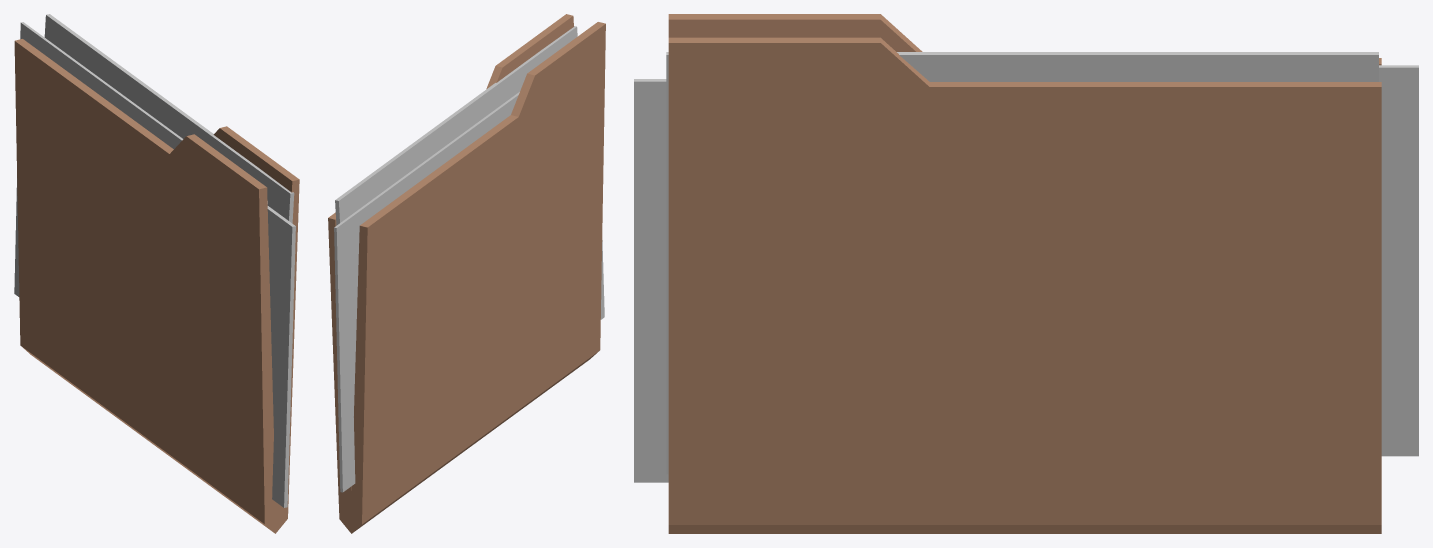
3 views of the same model, side by side, from view 1: azimuth 30°, elevation 25°; view 2: azimuth 150°, elevation 25°; view 3: azimuth 270°, elevation 25° (orthographic). The views are drawn at different scales.
Visible parts, largest first — view 1: file 1; view 2: file 1; view 3: file 1.
Part boxes in pixels (left/top/right/bottom): file 1: left=14, top=14, right=299, bottom=533; file 1: left=328, top=14, right=605, bottom=533; file 1: left=634, top=14, right=1418, bottom=533.
Size of the model in its own units: 2.97 by 24.33 by 34.05.
